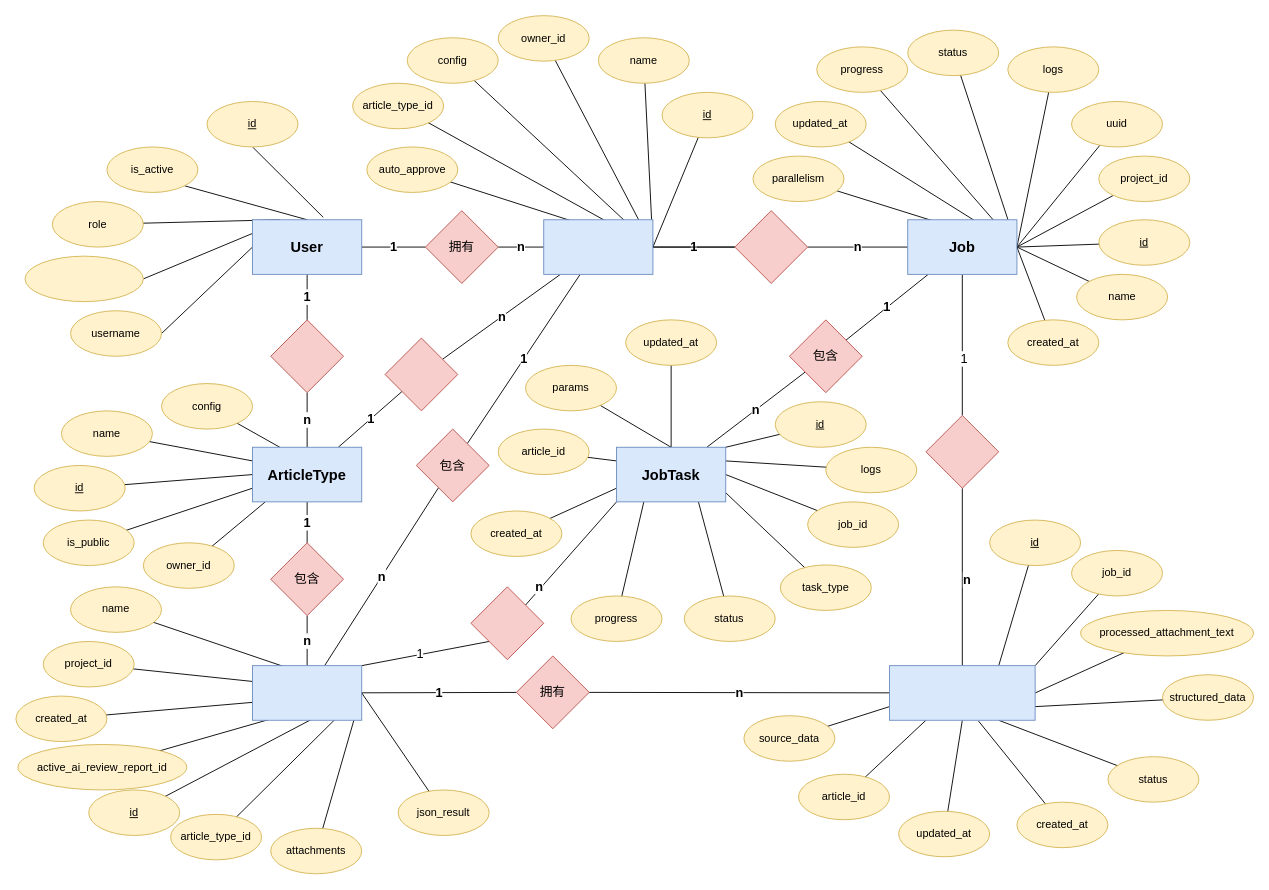
Some shapes in this 1269 by 890 pixel diagram are drawn without their labels. Each missing label, with the centre of its shape:
"AIReviewReport" belongs at point (962, 692).
"Article" belongs at point (307, 692).
"hashed_password" belongs at point (83, 278).
"Project" belongs at point (598, 246).
"关联" belongs at point (771, 246).
"创建" belongs at point (307, 356).
"应用于" belongs at point (421, 374).
"生成" belongs at point (962, 451).
"被处理" belongs at point (507, 623).
